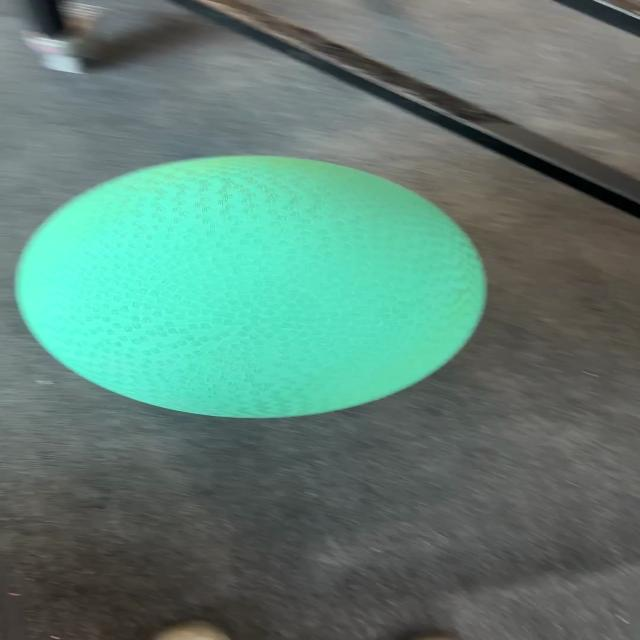Algae: (12, 153, 489, 420)
